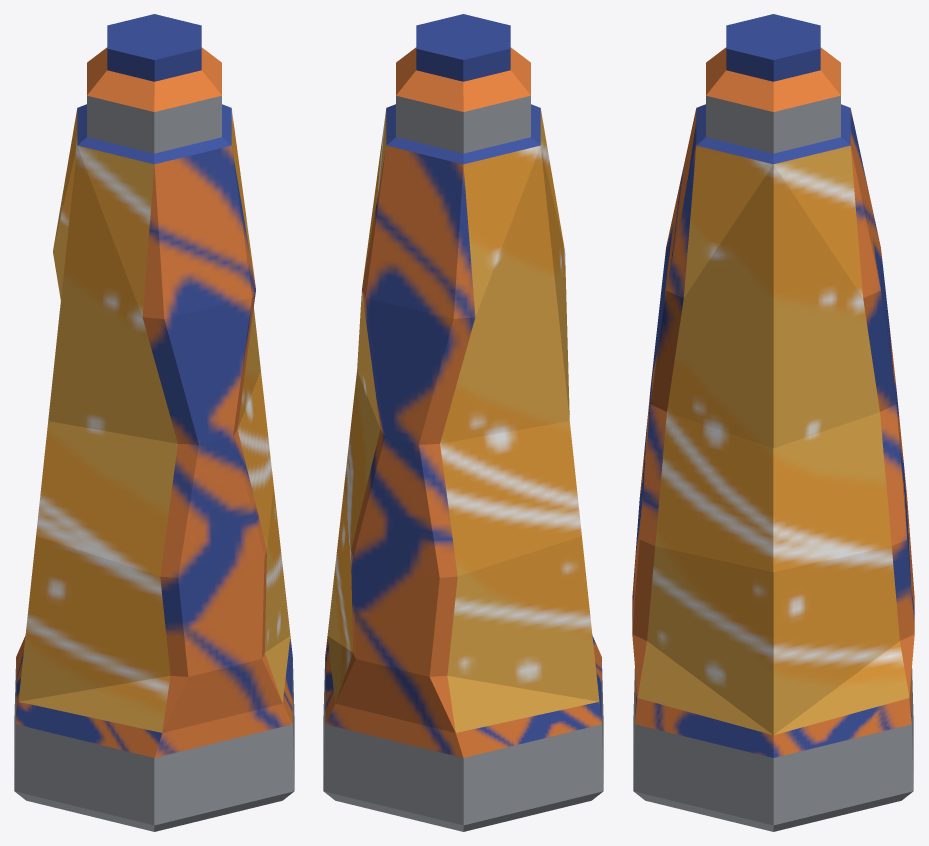
File: SM_Prop_Drink_04.fbx
3 renders of one model, left to right at view 1: azimuth 30°, elevation 25°; view 2: azimuth 150°, elevation 25°; view 3: azimuth 270°, elevation 25°, orthographic.
Visible parts, largest first — view 1: SM_Prop_Drink_04; view 2: SM_Prop_Drink_04; view 3: SM_Prop_Drink_04.
Part boxes in pixels (x1=…): SM_Prop_Drink_04: x1=14, y1=14, x2=294, y2=831; SM_Prop_Drink_04: x1=323, y1=14, x2=603, y2=831; SM_Prop_Drink_04: x1=632, y1=14, x2=914, y2=831.
Size of the model in its own units: 11.97 by 29.88 by 10.44.
